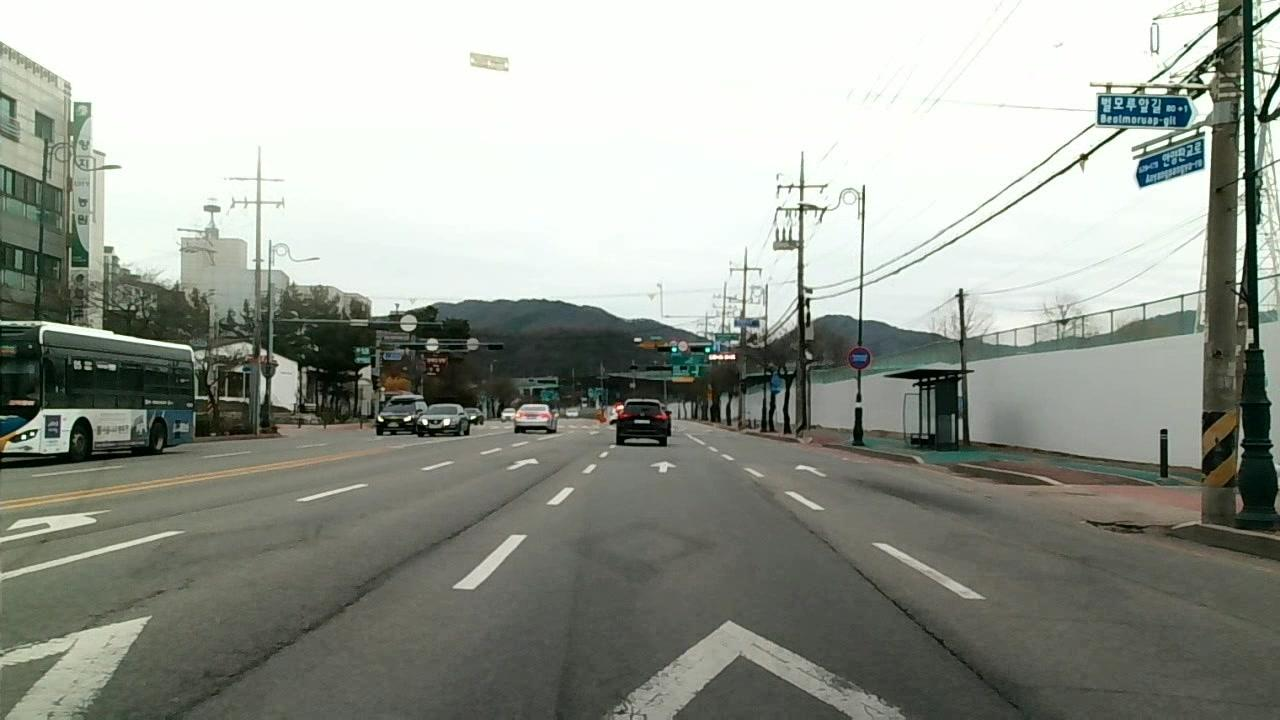vcrack: (854, 567, 1014, 705), (170, 604, 333, 720), (345, 514, 490, 614), (787, 510, 842, 560)
